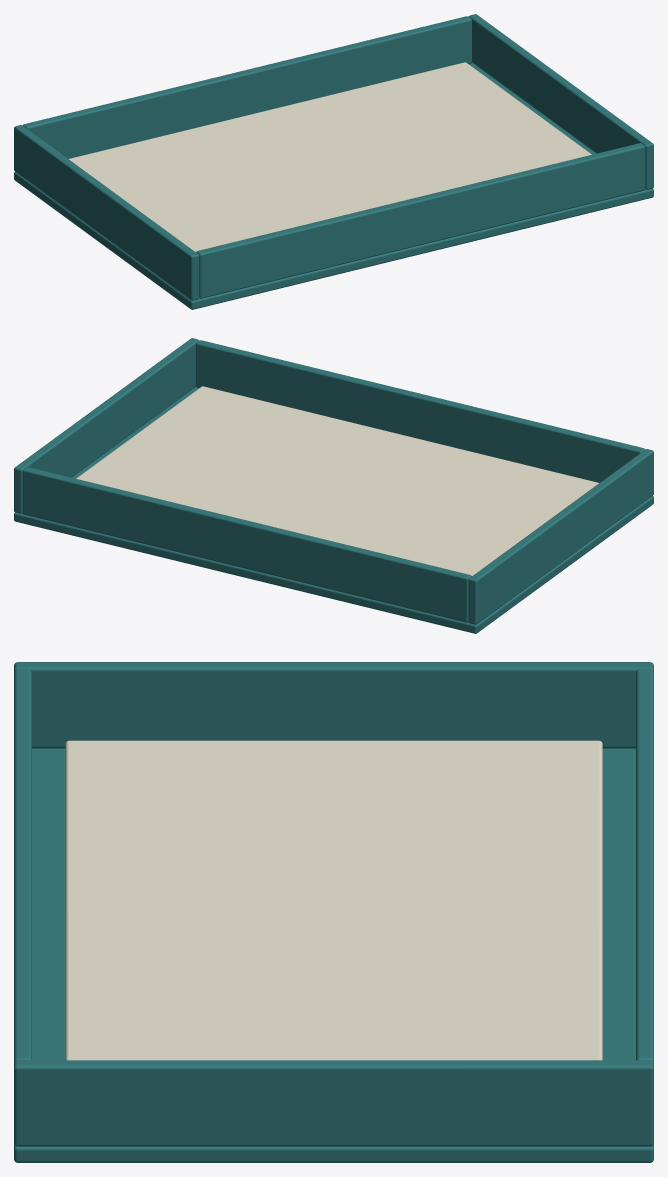
File: tabletop-hobby-store-and-club-wet-palette-da2842fa__31589.glb
3 renders of one model, top to bottom at view 1: azimuth 30°, elevation 25°; view 2: azimuth 150°, elevation 25°; view 3: azimuth 270°, elevation 25°, orthographic. The views are drawn at different scales.
Visible parts, largest first — view 1: wet-palette; view 2: wet-palette; view 3: wet-palette.
Part boxes in pixels (x1,y1,x2,y2): wet-palette: (14,14,653,309); wet-palette: (14,338,653,633); wet-palette: (14,662,653,1162).
Size of the model in its own units: 0.15 by 0.0168 by 0.1.
